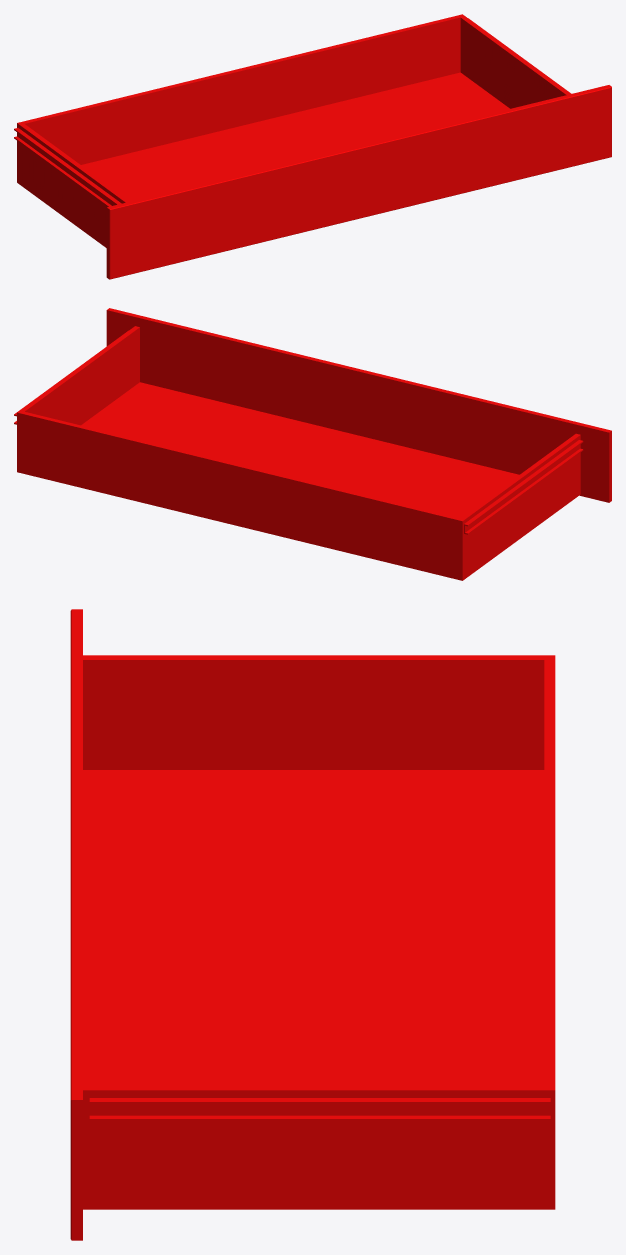
The model's file is Medical_Cart01_Drawer.fbx.
3 renders of one model, top to bottom at view 1: azimuth 30°, elevation 25°; view 2: azimuth 150°, elevation 25°; view 3: azimuth 270°, elevation 25°, orthographic. The views are drawn at different scales.
Visible parts, largest first — view 1: SM_Medical_Cart01_Drawer; view 2: SM_Medical_Cart01_Drawer; view 3: SM_Medical_Cart01_Drawer.
Boxes of the visible parts, x1,y1,x2,y2 form: SM_Medical_Cart01_Drawer: (14, 14, 611, 279); SM_Medical_Cart01_Drawer: (14, 308, 611, 580); SM_Medical_Cart01_Drawer: (70, 609, 555, 1240).
Bounding box in the file's own units: 1.06 × 0.1414 × 0.4421.
